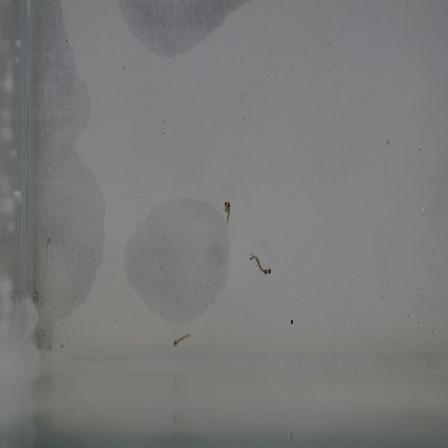Jentik-Nyamuk: (248, 248, 276, 281), (219, 196, 235, 229)
